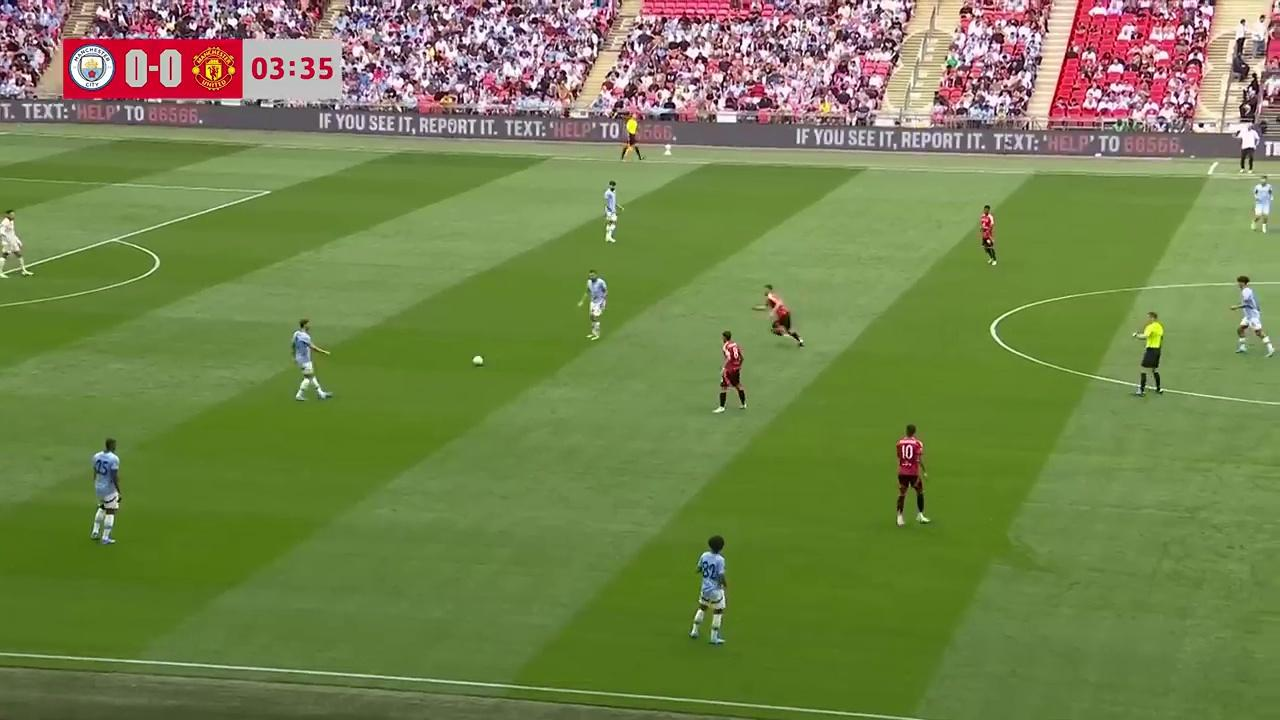ball: (470, 350, 486, 367)
player: (688, 536, 728, 643), (1229, 276, 1276, 356), (895, 423, 930, 527), (290, 318, 332, 402), (90, 437, 122, 544), (756, 284, 804, 348), (714, 331, 745, 413), (579, 269, 607, 340), (0, 209, 27, 276), (1251, 177, 1274, 233), (603, 179, 621, 242), (979, 205, 996, 266)
referee: (1134, 312, 1165, 397), (620, 116, 642, 161)
